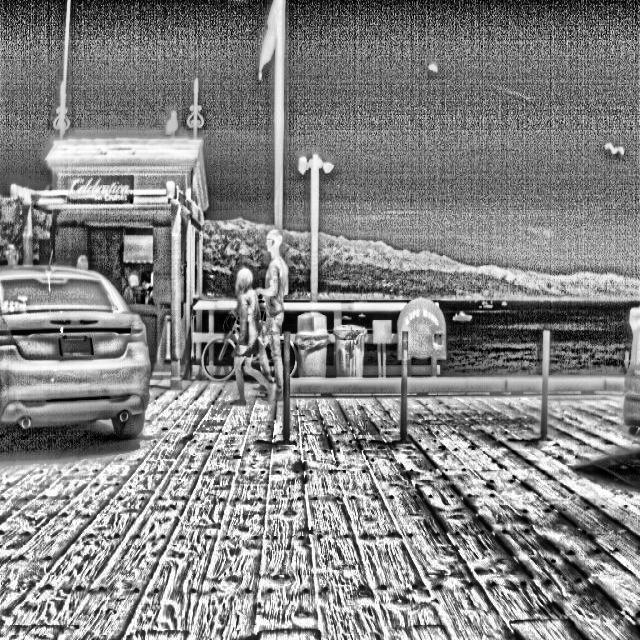bycle: (206, 295, 302, 404)
car: (1, 239, 152, 462)
person and bycle: (233, 221, 300, 394)
